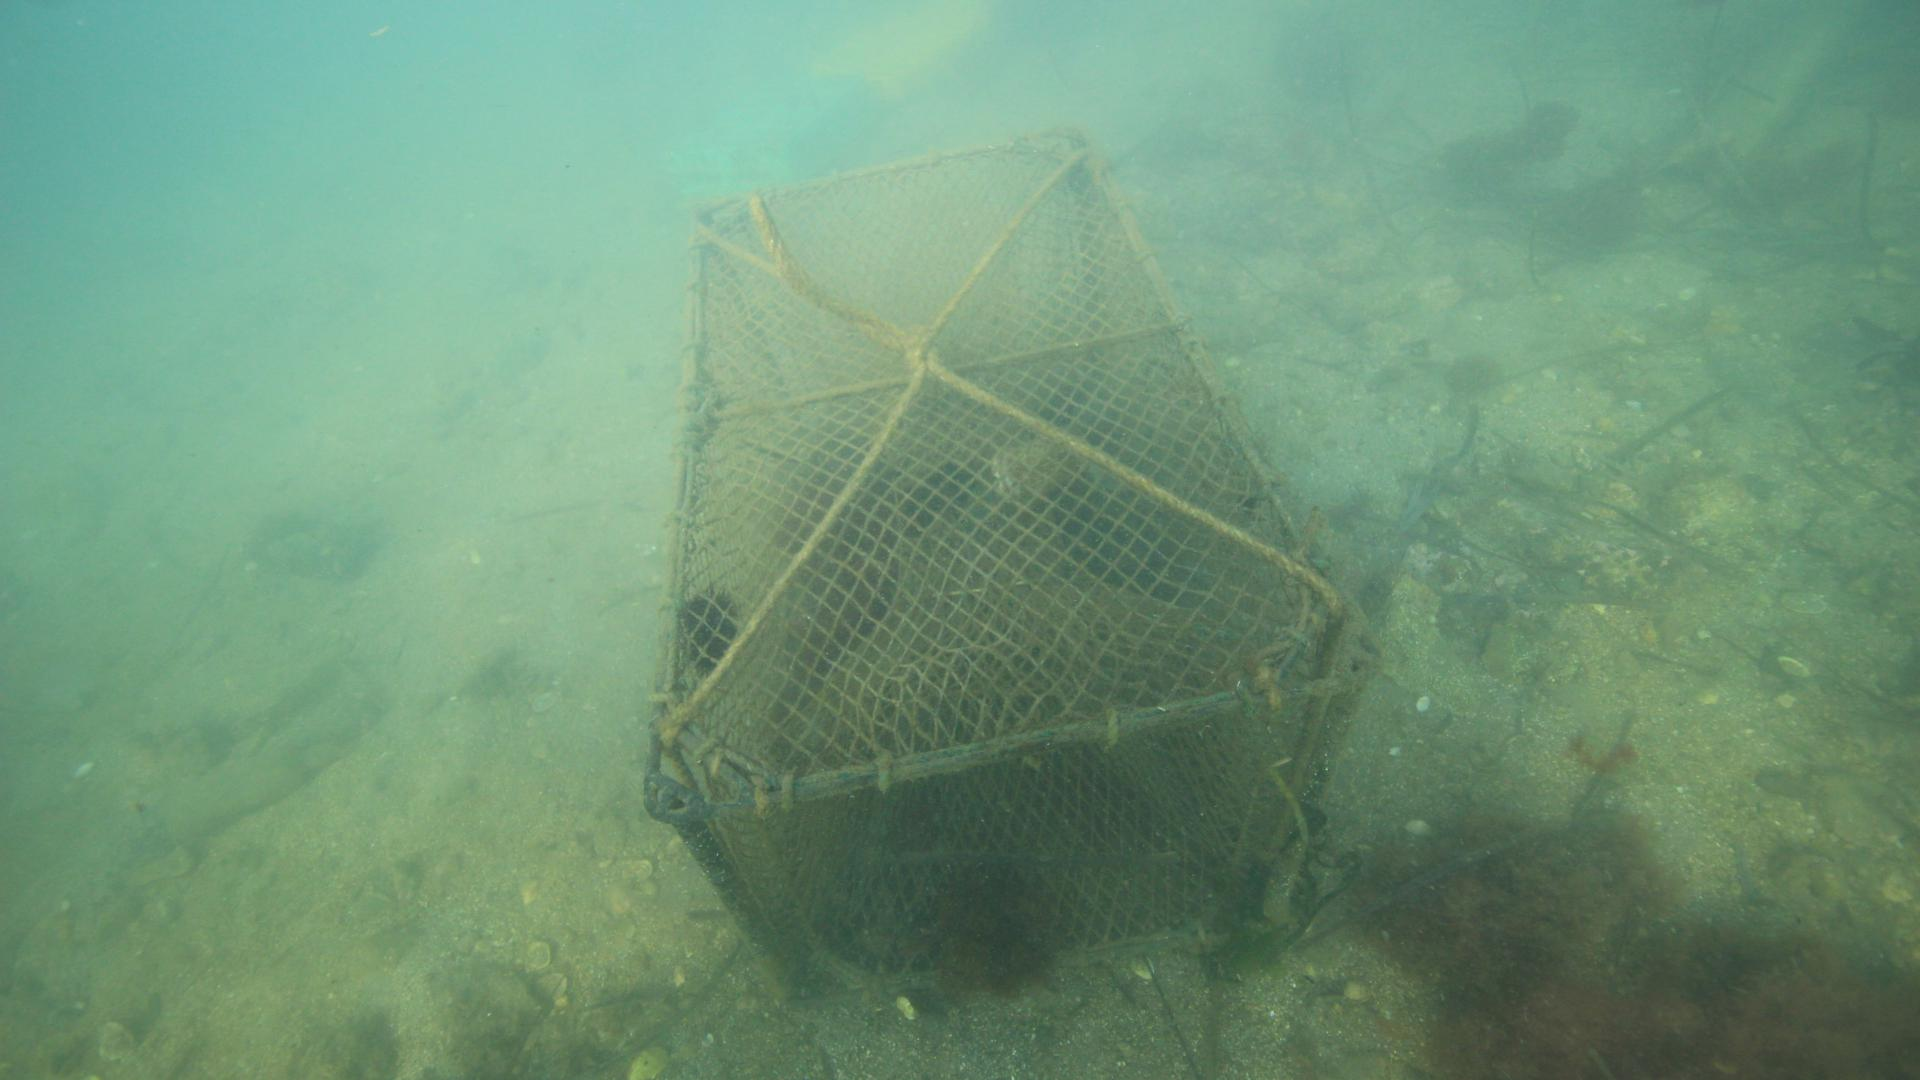rectangular fish trap: (640, 127, 1386, 1011)
